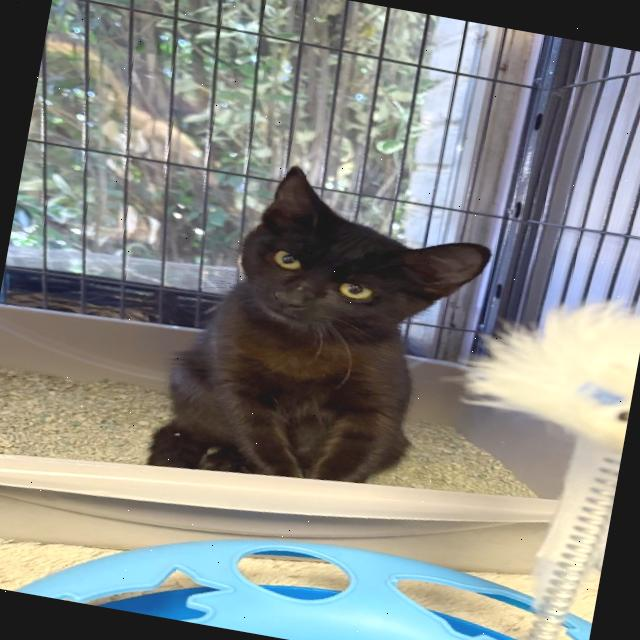bombay_cat: (202, 152, 506, 388)
